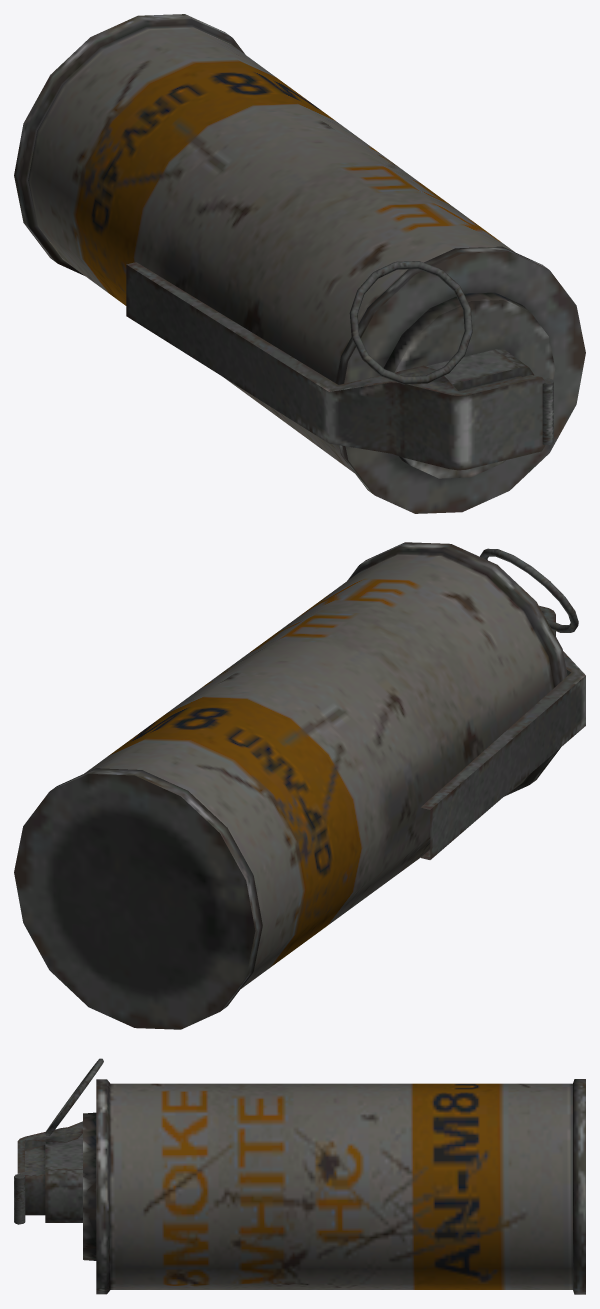
The model's file is weapon_usa_smoke_grenade_LOD00.obj.
3 views of the same model, one above another, from view 1: azimuth 30°, elevation 25°; view 2: azimuth 150°, elevation 25°; view 3: azimuth 270°, elevation 25° (orthographic). The views are drawn at different scales.
Visible parts, largest first — view 1: TomGroup_0; view 2: TomGroup_0; view 3: TomGroup_0.
Part boxes in pixels (x1,y1,x2,y2): TomGroup_0: (14,14,585,513); TomGroup_0: (14,542,585,1029); TomGroup_0: (14,1058,585,1294).
Bounding box in the file's own units: 6.2 × 5.57 × 14.49.
Materials: 1 (1 with a texture image).
